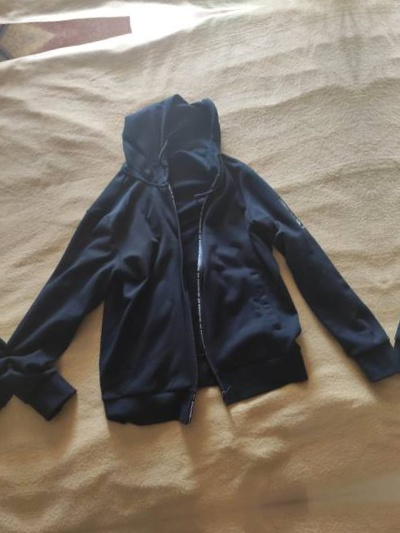Hoodie: (0, 63, 397, 450), (358, 11, 400, 399), (0, 117, 10, 504)
